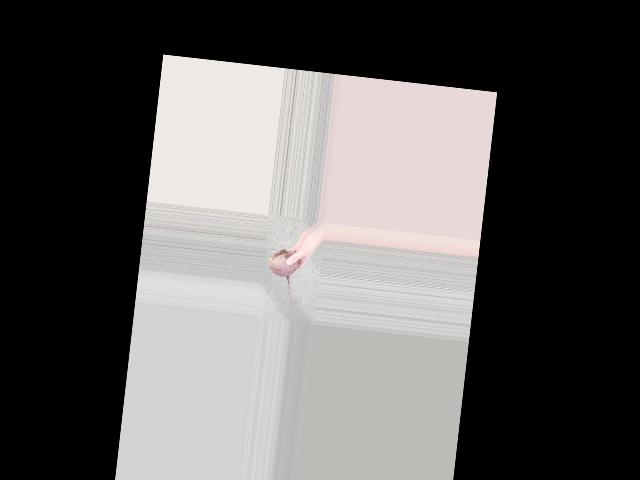beet: (263, 247, 299, 305)
